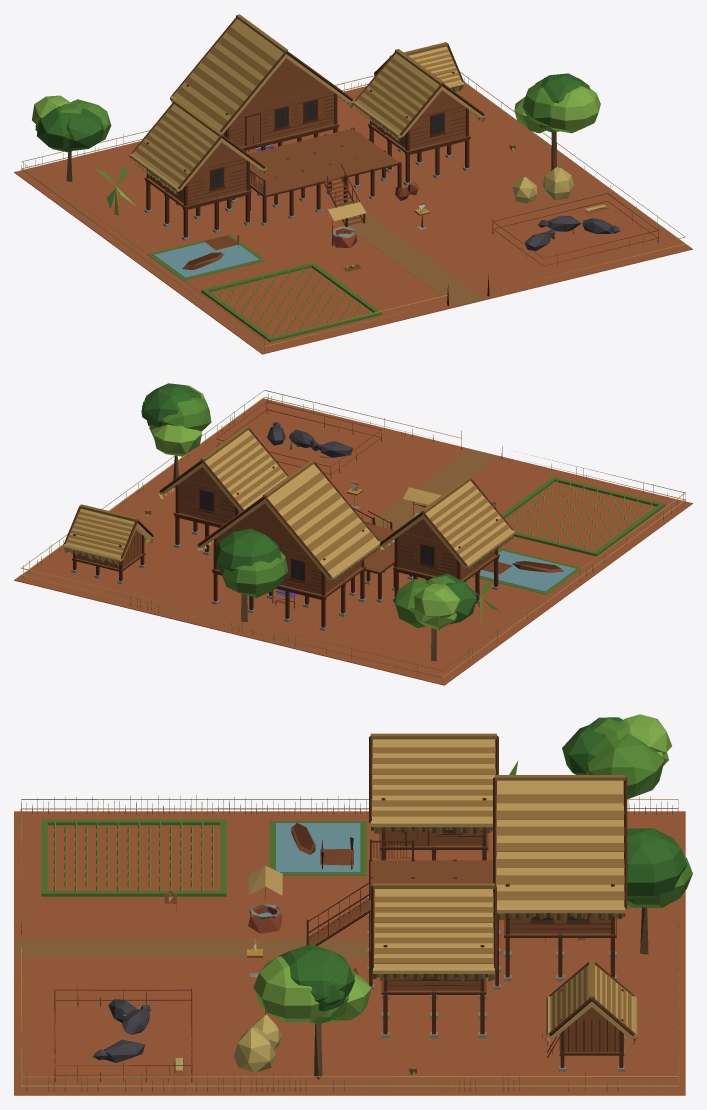
The model's file is home_5.glb.
3 renders of one model, top to bottom at view 1: azimuth 30°, elevation 25°; view 2: azimuth 150°, elevation 25°; view 3: azimuth 270°, elevation 25°, orthographic. The views are drawn at different scales.
Parts seen in each view (by area): view 1: body, windows; view 2: body, windows; view 3: body.
Part boxes in pixels (x1=…): body: x1=14, y1=14, x2=692, y2=354; windows: x1=211, y1=100, x2=443, y2=188; body: x1=14, y1=383, x2=692, y2=685; windows: x1=200, y1=490, x2=433, y2=580; body: x1=14, y1=714, x2=692, y2=1095.
Size of the model in its own units: 32.5 by 9.14 by 32.25.
